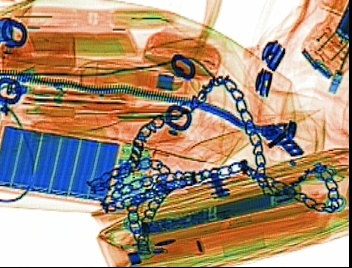powerbank: (1, 119, 150, 210)
